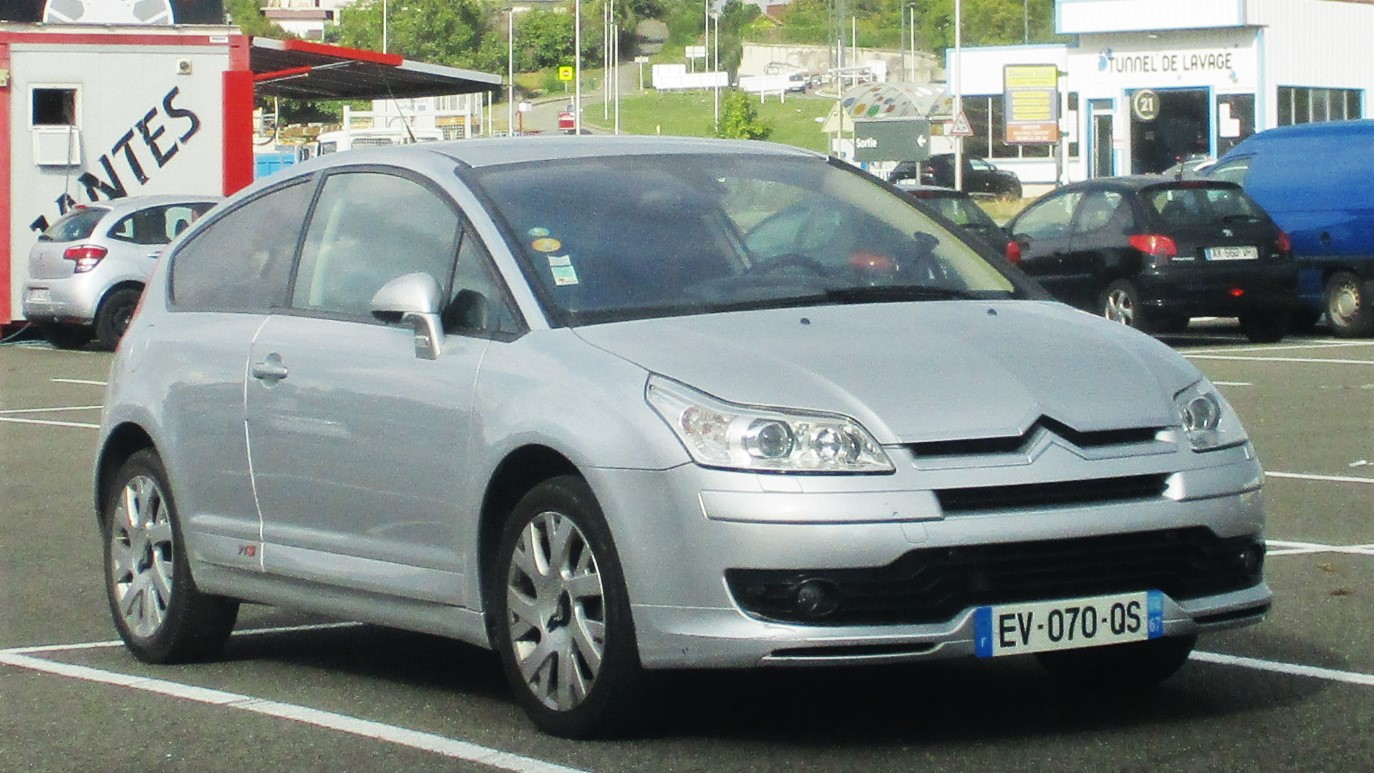licence plate: (970, 588, 1171, 664)
